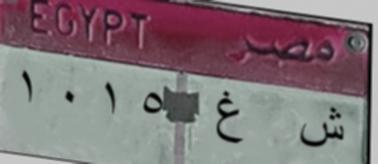1: (100, 76, 130, 124), (15, 66, 40, 109)
5: (137, 89, 168, 124)
ghayn: (213, 87, 247, 154)
sheen: (295, 98, 350, 162)
